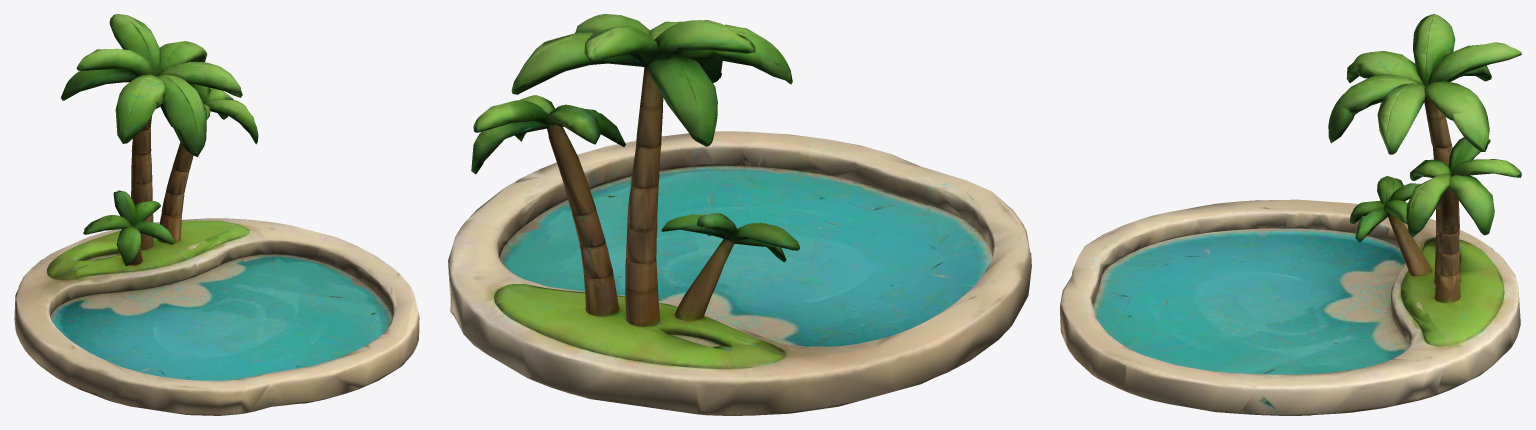
File: oasis_pbr.glb
3 renders of one model, left to right at view 1: azimuth 30°, elevation 25°; view 2: azimuth 150°, elevation 25°; view 3: azimuth 270°, elevation 25°, orthographic. The views are drawn at different scales.
Visible parts, largest first — view 1: model.010; view 2: model.010; view 3: model.010.
Boxes of the visible parts, x1=… form: model.010: x1=14, y1=14, x2=419, y2=415; model.010: x1=448, y1=14, x2=1031, y2=415; model.010: x1=1060, y1=14, x2=1521, y2=415.
Bounding box in the file's own units: 2.33 × 1.6 × 2.4.
Materials: 1 (1 with a texture image).
